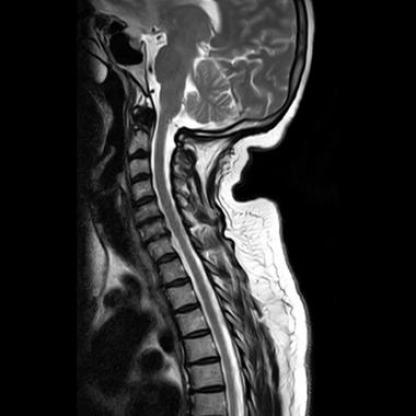Disc Bulgerotation: (134, 215, 165, 229), (140, 234, 171, 247)
Osteophytesrotation: (134, 215, 165, 228), (140, 233, 171, 246)
